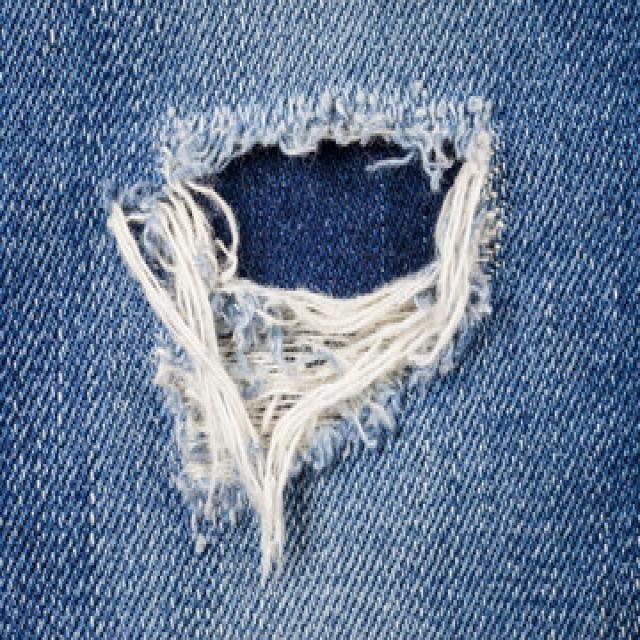Hole: (108, 85, 499, 578)
